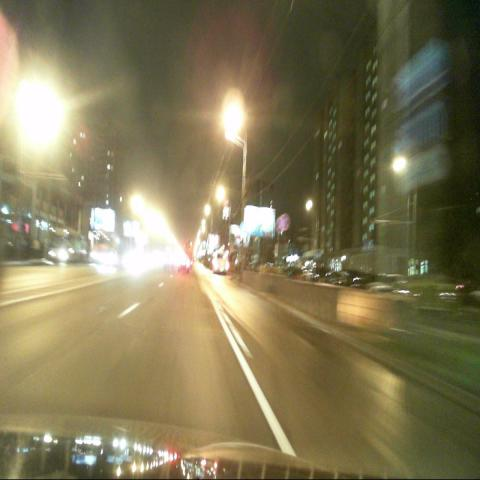3_27: (280, 214, 290, 232)
6_6: (427, 41, 451, 89)
